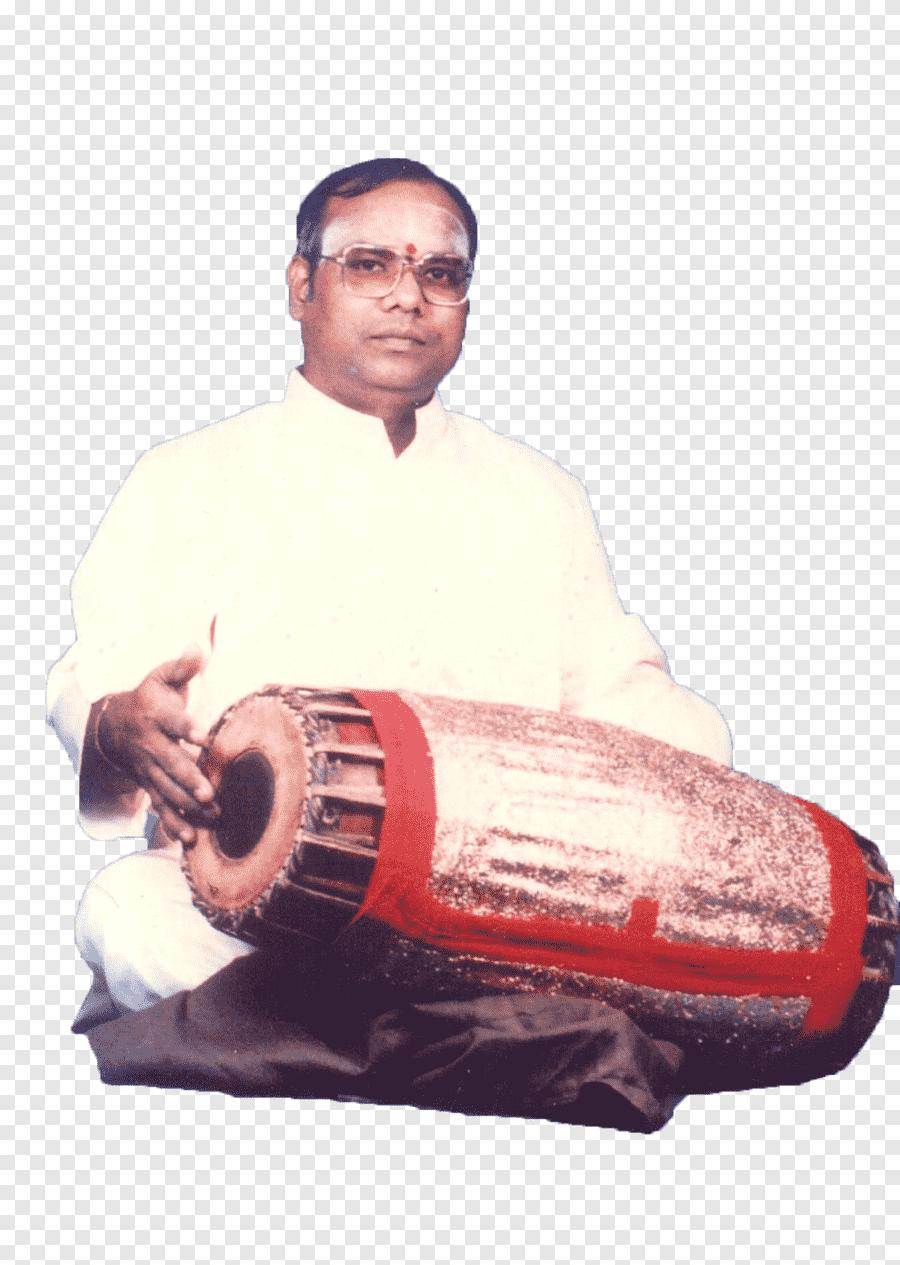Mridangam: (176, 679, 900, 1098)
